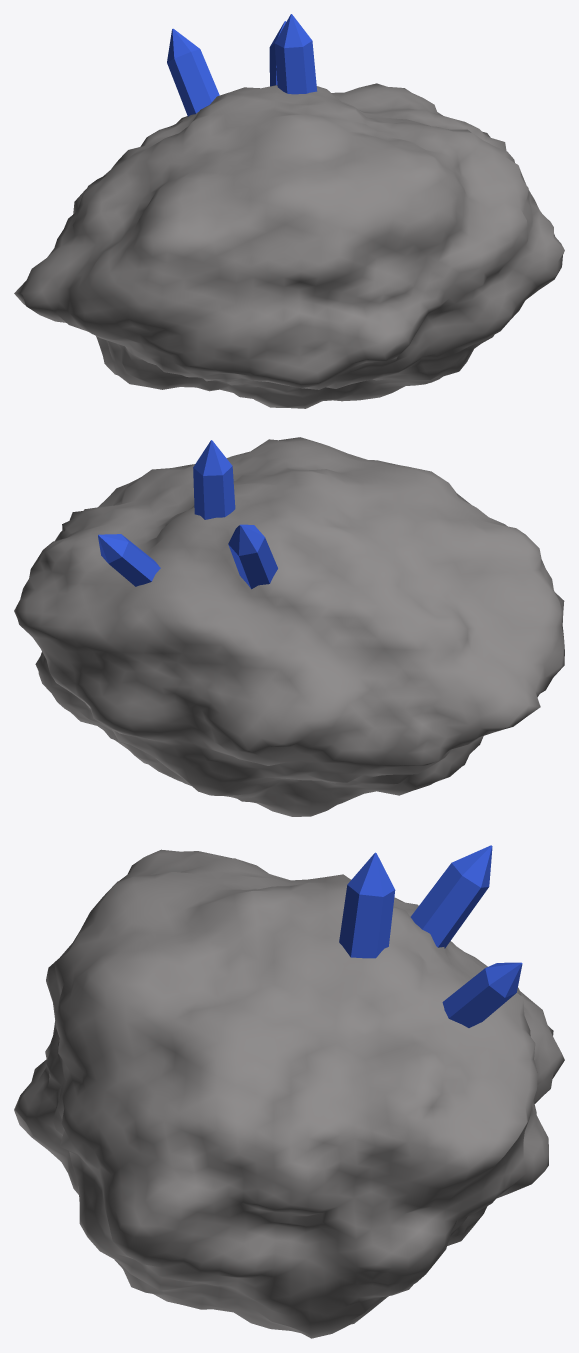
The model's file is sapphire_surface.glb.
The picture shows the model from 3 angles, top to bottom: view 1: azimuth 30°, elevation 25°; view 2: azimuth 150°, elevation 25°; view 3: azimuth 270°, elevation 25°; orthographic projection. The views are drawn at different scales.
Parts seen in each view (by area): view 1: sapphire_surface; view 2: sapphire_surface; view 3: sapphire_surface.
Part boxes in pixels (x1,y1,x2,y2): sapphire_surface: [14, 14, 564, 408]; sapphire_surface: [14, 437, 564, 816]; sapphire_surface: [14, 845, 564, 1338].
Bounding box in the file's own units: 1.26 × 0.9021 × 0.9986.
